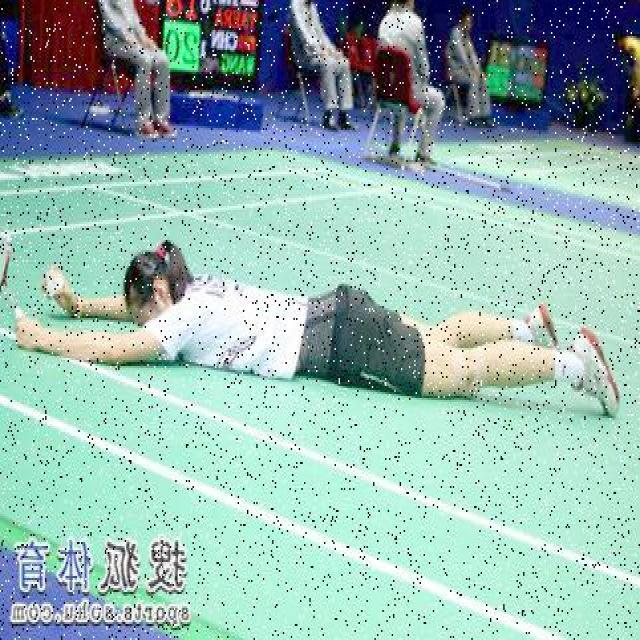fall: (36, 248, 623, 414)
